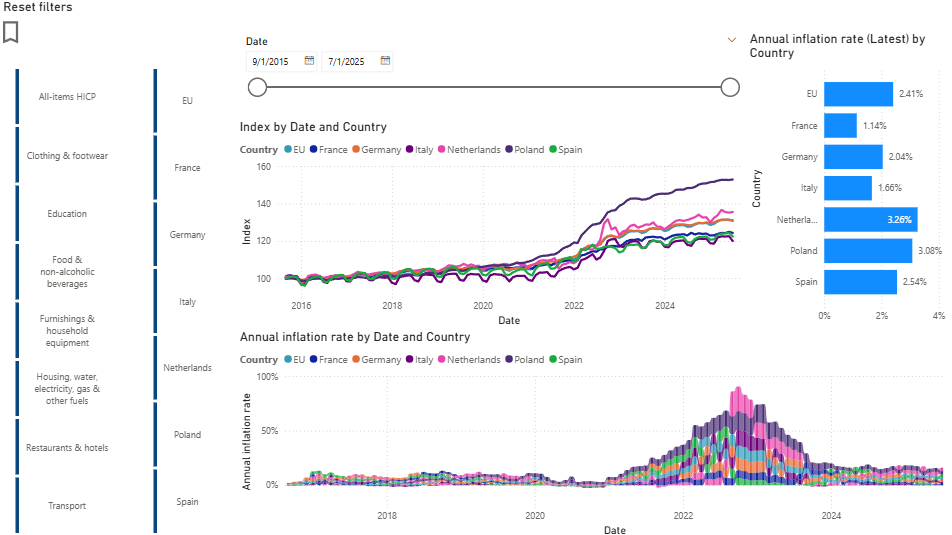

The page's visual inventory and layout, read from the dashboard file:
{"tool":"powerbi","page":{"name":"Page 1","canvas":[1280,720],"ordinal":0},"visuals":[{"type":"slicer","fields":{"Values":["DimGeo.Country"]},"box":[183.3,86.9,136.1,633.1],"z":0},{"type":"slicer","fields":{"Values":["DimCOICOP.CoicopLabel"]},"box":[0,86.9,183.3,633.1],"z":1000},{"type":"actionButton","title":"Reset filters","box":[0,0,111.7,63.3],"z":2000},{"type":"slicer","fields":{"Values":["DimDate.Date"]},"box":[320,42,680,150],"z":3000},{"type":"ribbonChart","fields":{"Series":["DimGeo.GeoLabel"],"Y":["_Measures.YoY %"],"Category":["DimDate.Date"]},"box":[320,440,960,280],"z":4001},{"type":"lineChart","fields":{"Series":["DimGeo.GeoLabel"],"Y":["_Measures.Index"],"Category":["DimDate.Date"]},"box":[320,160,680,280],"z":4002},{"type":"clusteredBarChart","fields":{"Category":["DimGeo.GeoLabel"],"Y":["_Measures.YoY % (Latest)"]},"box":[1000,42,280,398],"z":4003}]}

Visuals, with their boxes in screenshot pixels (x1, y1, x2, y2), scaled from the page's 1280x720 canvas onto the 952x535 screenshot:
slicer - DimGeo.Country: detection(136, 65, 238, 534)
slicer - DimCOICOP.CoicopLabel: detection(0, 65, 136, 534)
"Reset filters" actionButton: detection(0, 0, 83, 47)
slicer - DimDate.Date: detection(238, 31, 744, 143)
ribbonChart - DimGeo.GeoLabel x _Measures.YoY %: detection(238, 327, 951, 534)
lineChart - DimGeo.GeoLabel x _Measures.Index: detection(238, 119, 744, 327)
clusteredBarChart - DimGeo.GeoLabel x _Measures.YoY % (Latest): detection(744, 31, 951, 327)
